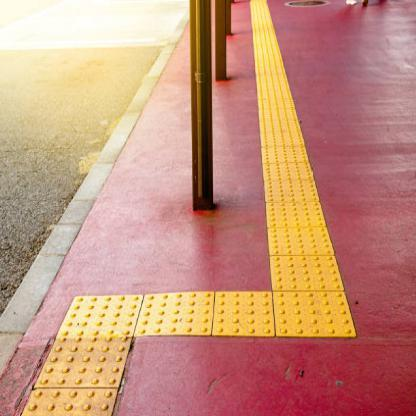podotacti: (21, 9, 356, 416)
